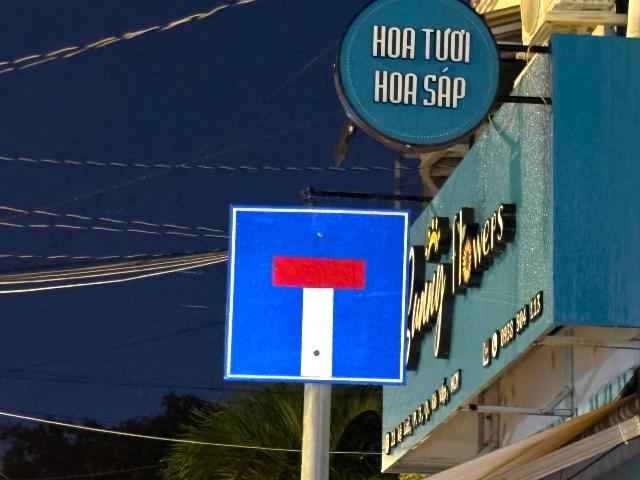duong-cut: (224, 206, 408, 387)
